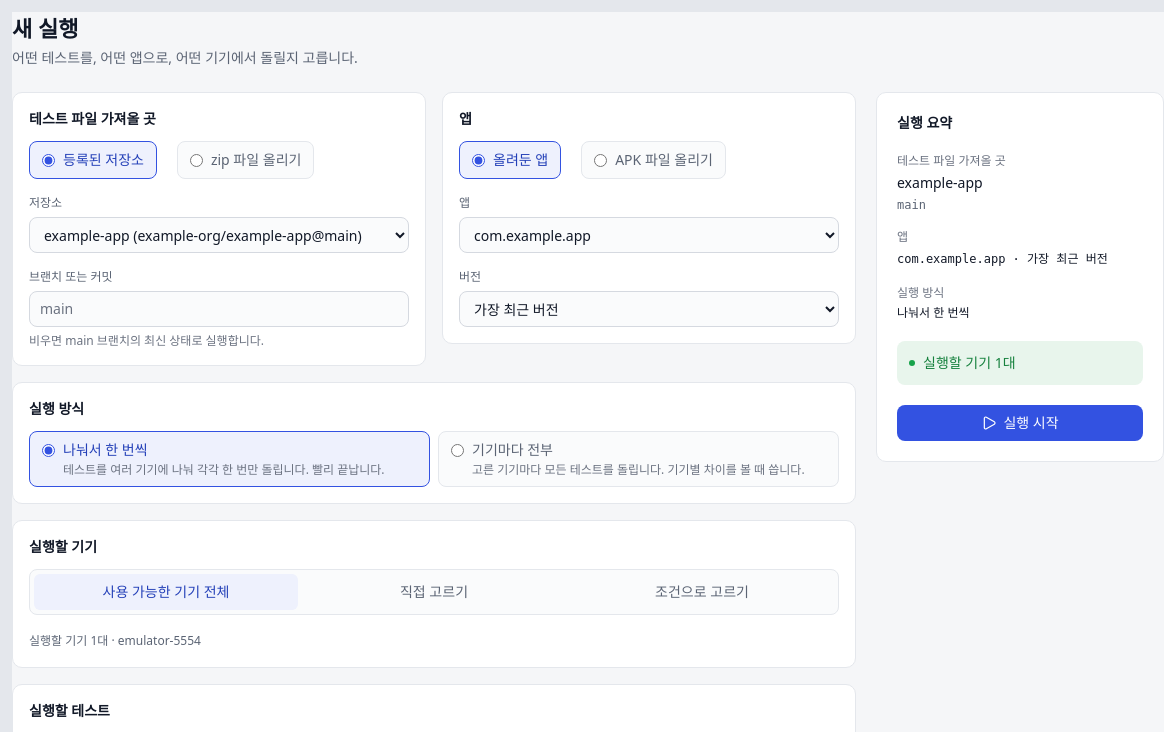
Scenario: keeps the execution summary in sync with source, app, mode and device eligibility
Expected: the dropdown labelled "저장소" is shown, [29, 217, 409, 253]
Expected: the text "example-app" is shown, [897, 173, 983, 192]
Type "release" into the field labelled "브랜치 또는 커밋".
click(219, 309); type("release")  # box [29, 291, 409, 327]
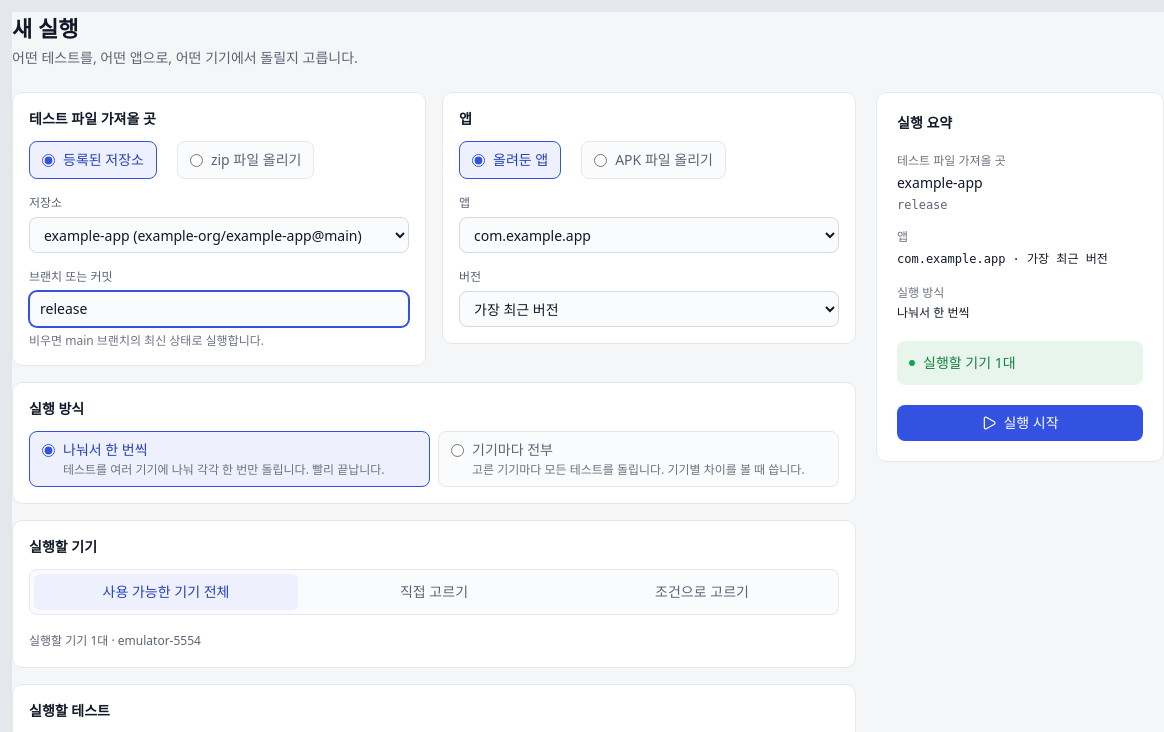
Result: the text "release" is shown at [897, 198, 948, 212]
Select "2.0 (2) · 25일 전" in the dropdown labelled "버전" at (649, 309), box [459, 291, 839, 327]
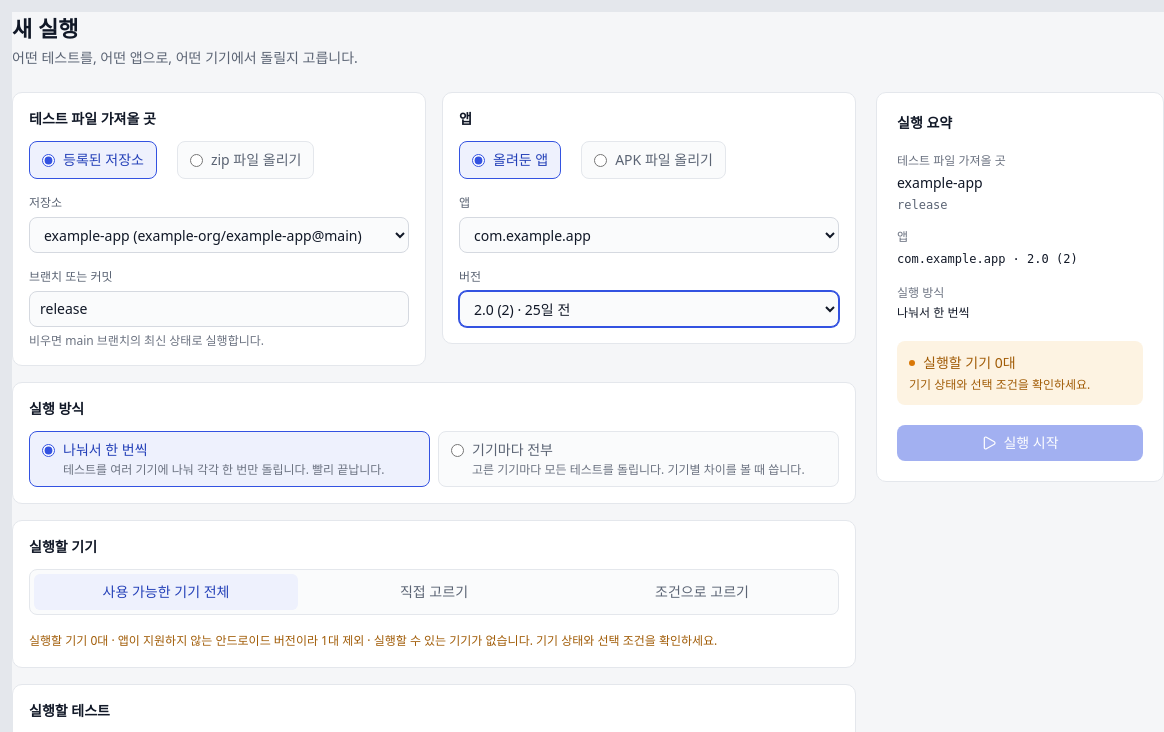
Result: the text "com.example.app · 2.0 (2)" is shown at [897, 252, 1078, 266]
Result: the text "실행할 기기 0대" is shown at [909, 353, 1016, 372]
Click the radio button labelled "기기마다 전부 고른 기기마다 모든 테스트를 돌립니다. 기기별 차이를 볼 때 씁니다.".
click(458, 450)  # box [451, 444, 464, 457]
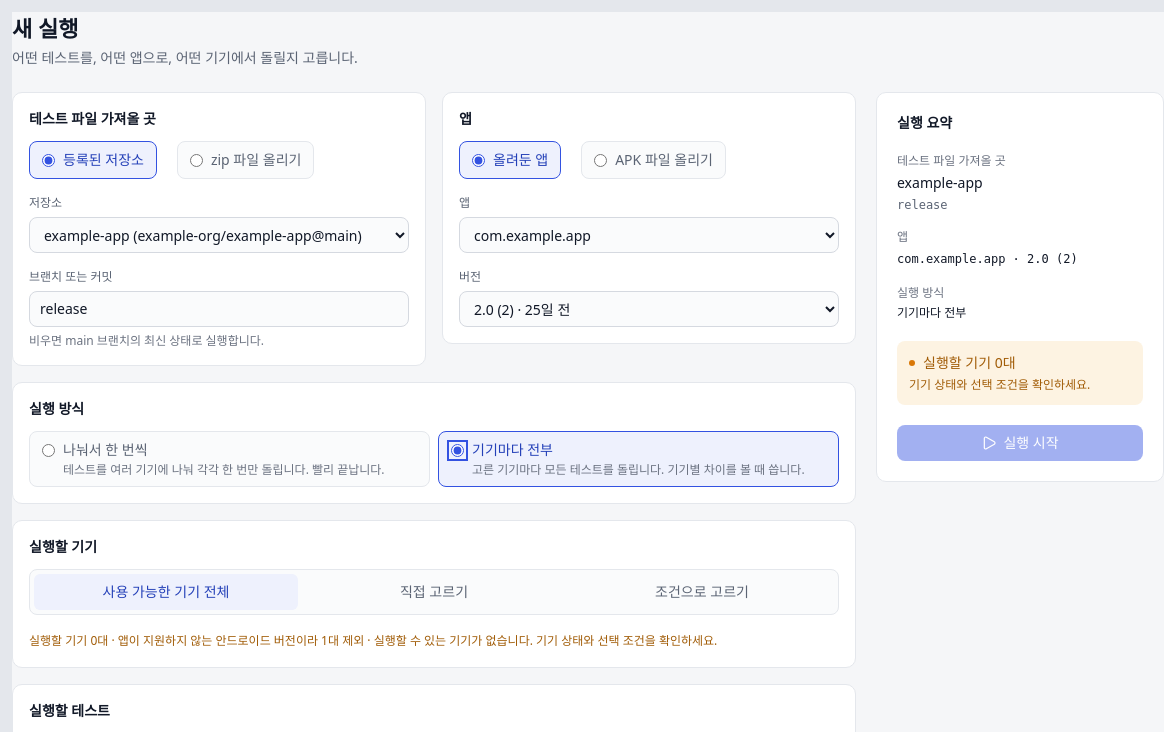
Result: the text "기기마다 전부" is shown at [897, 304, 966, 321]
